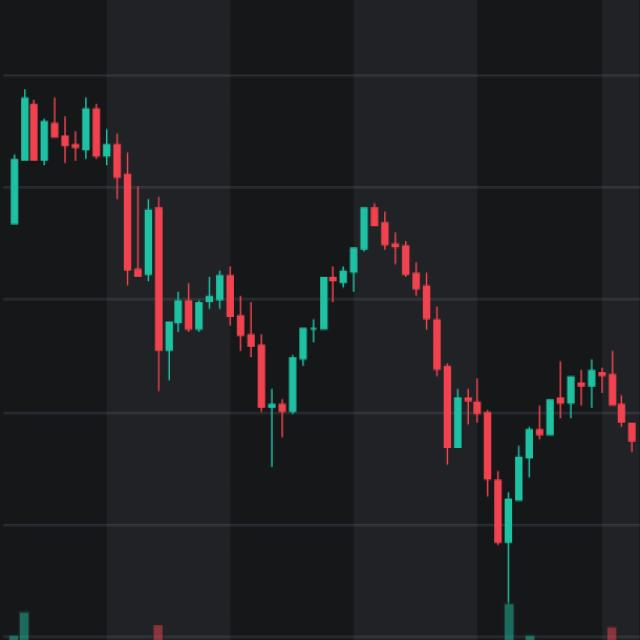Resistance-Emerging: (155, 190, 640, 544)
